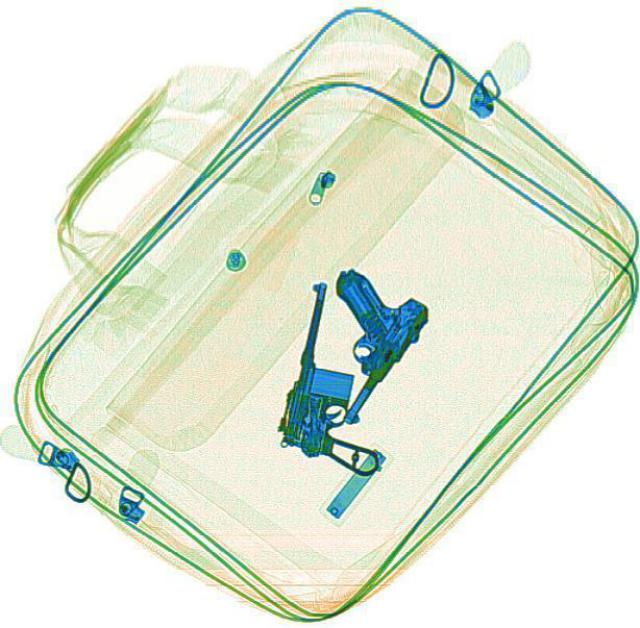Gun: (269, 276, 415, 475), (266, 260, 436, 426)
